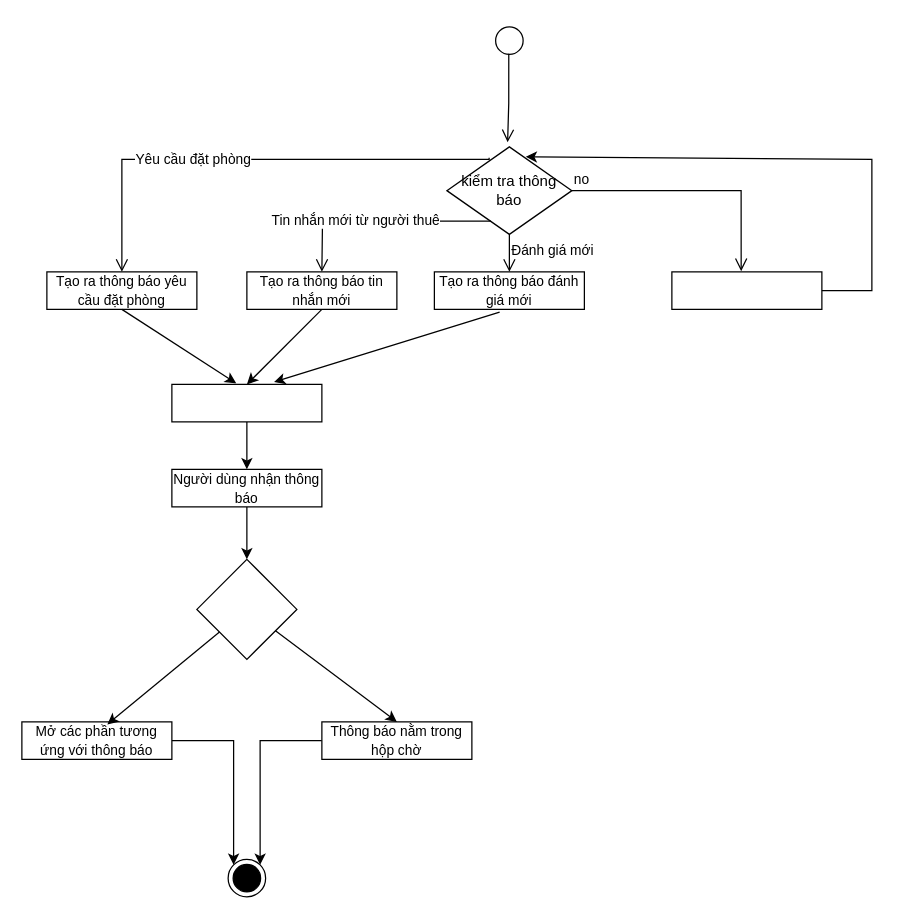
Some shapes in this 904 by 919 pixel diagram are drawn without their labels. Here are the shapes that lost their labels. From the top down, the centre of each, then its label:
(746,290): Chờ lần kiểm tra tiếp theo
(246,402): Gửi thông báo
(246,608): Người dùng tương tác với thông báo
